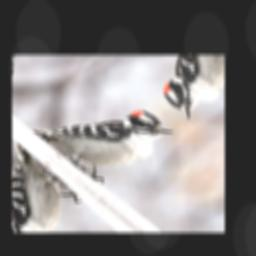Woodpecker: (31, 71, 177, 193)
